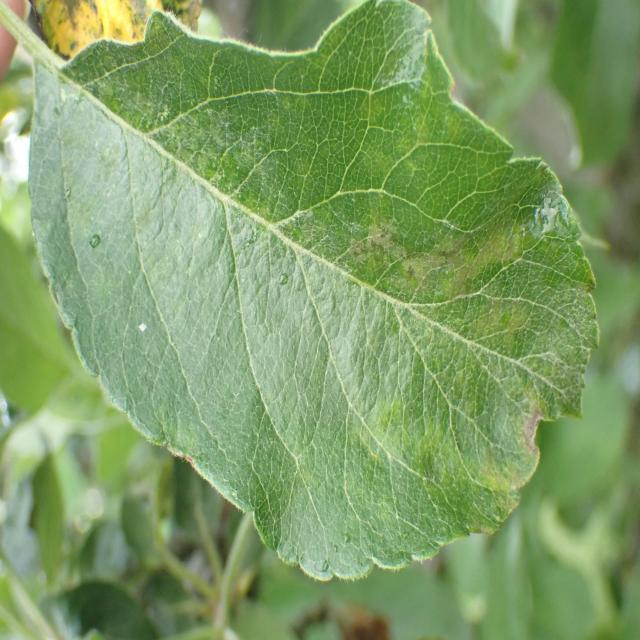scab: (64, 27, 604, 570)
